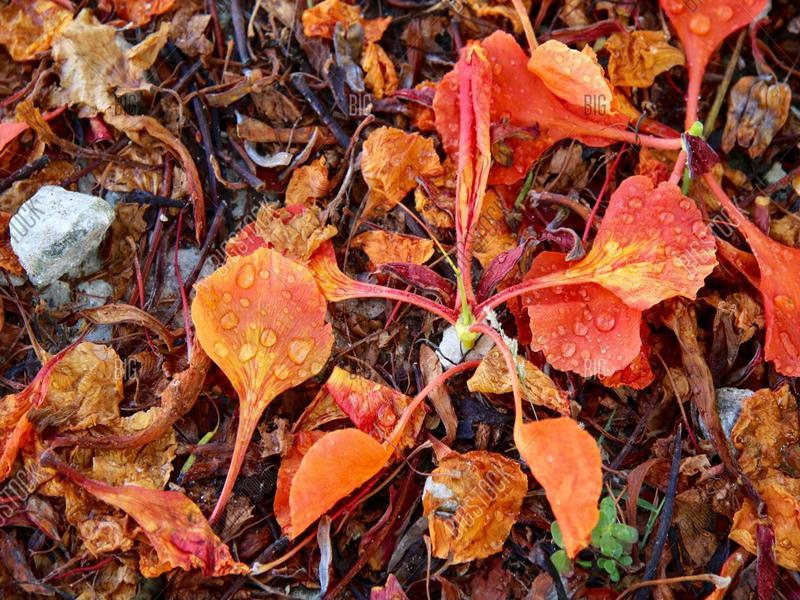flowers: (1, 38, 800, 578)
